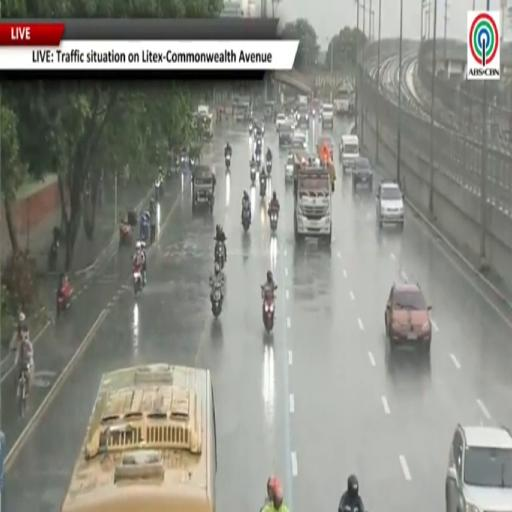bus: (61, 364, 217, 511)
car: (446, 425, 511, 511), (385, 283, 432, 354), (376, 182, 404, 228), (352, 157, 372, 189), (317, 135, 333, 161), (279, 123, 293, 148), (285, 153, 294, 182), (291, 132, 306, 149), (307, 153, 321, 167), (276, 114, 286, 131)
jeepney: (192, 165, 215, 211), (197, 106, 212, 140), (233, 101, 250, 122), (264, 102, 275, 122)
motorcycle: (17, 365, 30, 418), (262, 286, 275, 332), (57, 281, 73, 317), (211, 282, 222, 318), (48, 239, 59, 271), (119, 222, 133, 246), (133, 266, 143, 295), (215, 243, 225, 268), (141, 217, 149, 245), (242, 208, 250, 232), (269, 211, 278, 232), (155, 179, 163, 201), (260, 174, 266, 198), (208, 194, 214, 213), (180, 152, 187, 168), (250, 167, 256, 184), (266, 160, 272, 174), (225, 154, 230, 169), (256, 153, 260, 168), (249, 122, 253, 135), (253, 127, 257, 138)
truck: (294, 163, 332, 244), (334, 86, 350, 116), (322, 104, 333, 129)
